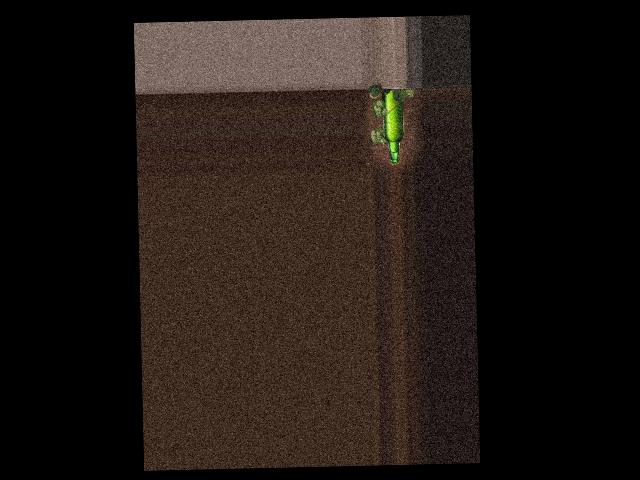beer: (383, 87, 405, 165)
